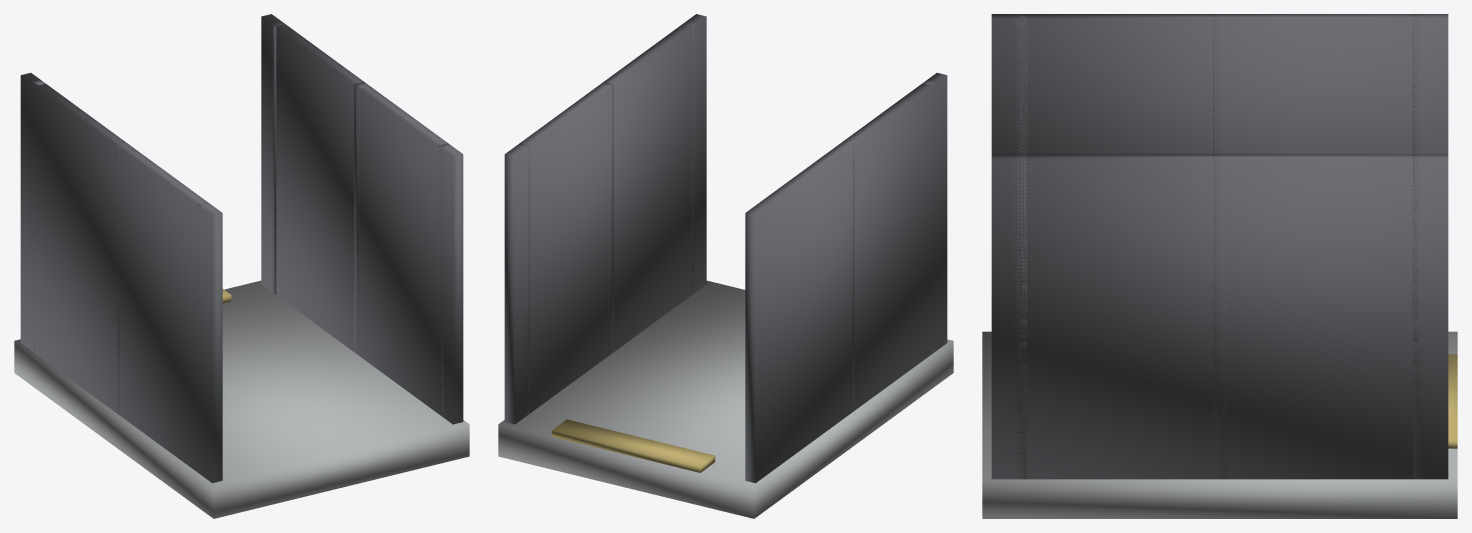
Rendered from floor_w100_d135_sides.glb.
3 views of the same model, side by side, from view 1: azimuth 30°, elevation 25°; view 2: azimuth 150°, elevation 25°; view 3: azimuth 270°, elevation 25° (orthographic). The views are drawn at different scales.
Visible parts, largest first — view 1: world; view 2: world; view 3: world.
Part boxes in pixels (left/top/right/bottom): world: left=14, top=14, right=469, bottom=518; world: left=498, top=14, right=953, bottom=518; world: left=982, top=14, right=1457, bottom=518.
Size of the model in its own units: 1 by 1.12 by 1.35.
